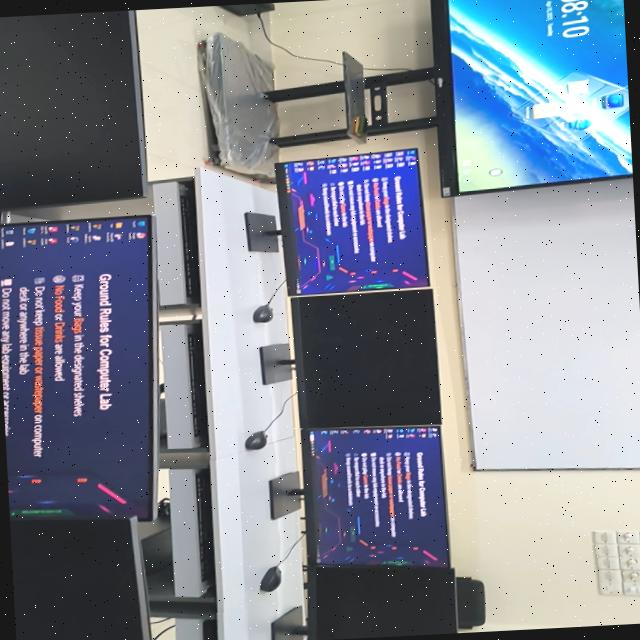Digital board: (444, 0, 633, 194)
Monitor: (0, 214, 158, 517), (0, 9, 146, 211), (279, 148, 429, 294), (290, 288, 441, 428), (309, 426, 447, 565), (10, 518, 151, 640), (302, 563, 457, 640)
Mouse: (261, 565, 281, 591), (245, 430, 268, 449), (253, 303, 272, 322)
